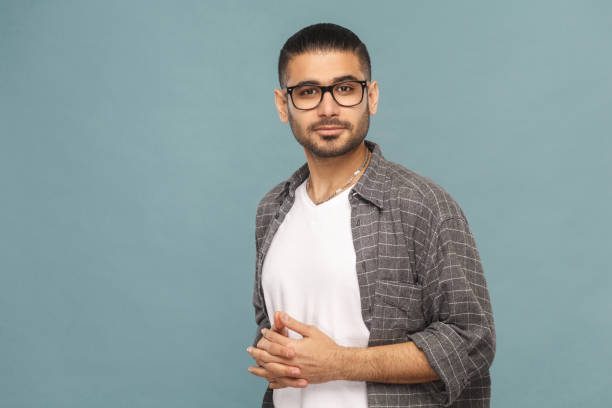person: (272, 22, 380, 163)
